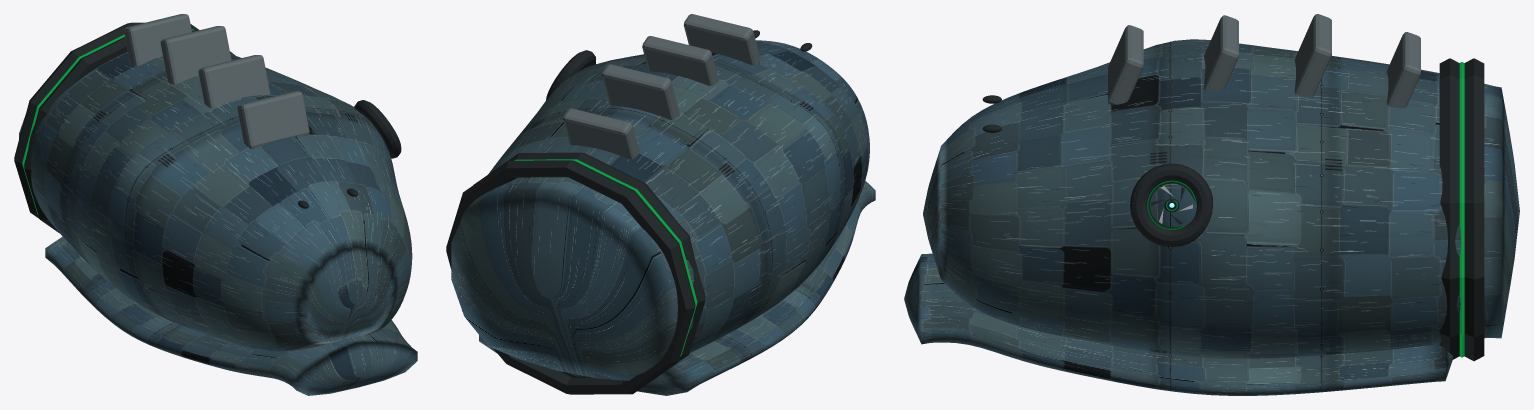
The model's file is snake_head.glb.
3 renders of one model, left to right at view 1: azimuth 30°, elevation 25°; view 2: azimuth 150°, elevation 25°; view 3: azimuth 270°, elevation 25°, orthographic. The views are drawn at different scales.
Parts seen in each view (by area): view 1: SnakeHead, SnakeJaw, SnakeCrest.003, SnakeCrest.001, SnakeCrest.002, SnakeHeadRingHousing, SnakeHeadRingHousing.001, SnakeCrest, SnakeEyeBezelHousing, SnakeHeadRing; view 2: SnakeHead, SnakeHeadRingHousing, SnakeJaw, SnakeHeadRingHousing.001, SnakeCrest.001, SnakeCrest, SnakeCrest.002, SnakeCrest.003, SnakeHeadRing, SnakeEyeBezelHousing; view 3: SnakeHead, SnakeJaw, SnakeHeadRingHousing, SnakeHeadRingHousing.001, SnakeEyeBezelHousing, SnakeCrest.001, SnakeCrest.003, SnakeCrest.002, SnakeCrest, SnakeHeadRing.
Boxes of the visible parts, box(x1,y1,x2,y2) form: SnakeHead: box(19, 52, 412, 351); SnakeJaw: box(45, 236, 417, 395); SnakeCrest.003: box(237, 91, 309, 148); SnakeCrest.001: box(160, 26, 231, 84); SnakeCrest.002: box(198, 55, 270, 108); SnakeHeadRingHousing: box(14, 22, 231, 218); SnakeHeadRingHousing.001: box(24, 30, 235, 233); SnakeCrest: box(124, 14, 191, 66); SnakeEyeBezelHousing: box(354, 100, 401, 158); SnakeHeadRing: box(22, 29, 193, 214); SnakeHead: box(451, 40, 869, 380); SnakeHeadRingHousing: box(446, 160, 695, 394); SnakeJaw: box(479, 181, 875, 395); SnakeHeadRingHousing.001: box(473, 152, 705, 376); SnakeCrest.001: box(602, 64, 679, 119); SnakeCrest: box(563, 108, 639, 159); SnakeCrest.002: box(642, 36, 718, 85); SnakeCrest.003: box(683, 14, 760, 65); SnakeHeadRing: box(514, 159, 697, 377); SnakeEyeBezelHousing: box(546, 50, 595, 100); SnakeHead: box(923, 39, 1519, 358); SnakeJaw: box(904, 253, 1453, 395); SnakeHeadRingHousing: box(1464, 58, 1484, 361); SnakeHeadRingHousing.001: box(1439, 58, 1459, 359); SnakeEyeBezelHousing: box(1130, 163, 1213, 247); SnakeCrest.001: box(1294, 14, 1331, 96); SnakeCrest.003: box(1108, 25, 1143, 105); SnakeCrest.002: box(1203, 15, 1238, 91); SnakeCrest: box(1386, 32, 1420, 108); SnakeHeadRing: box(1459, 62, 1464, 357).
Bounding box in the file's own units: 1.17 × 1.05 × 1.87.
Materials: 8 (3 with a texture image).
